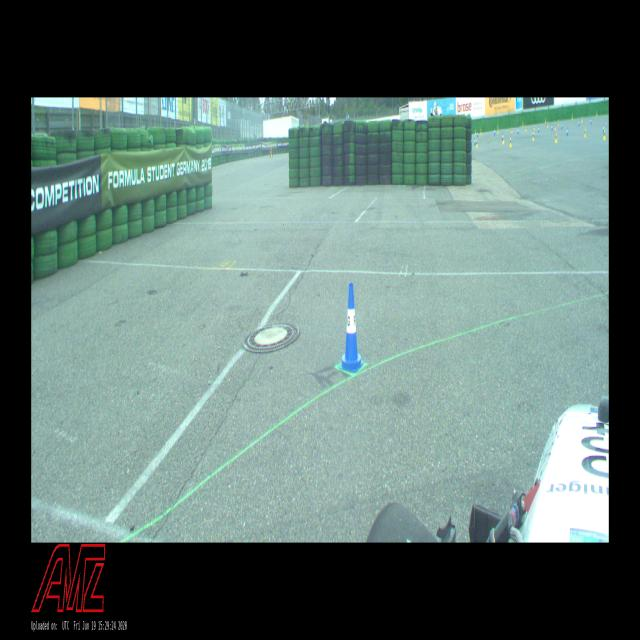blue_cone: (339, 283, 364, 373)
